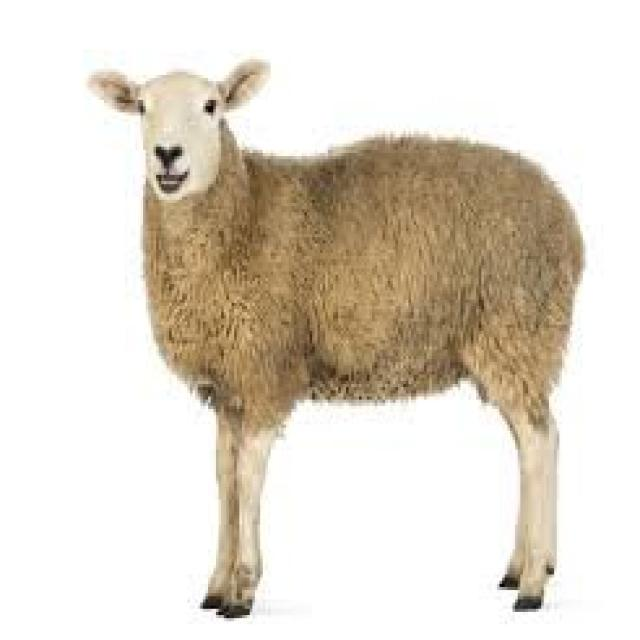Boar: (86, 53, 585, 618)
